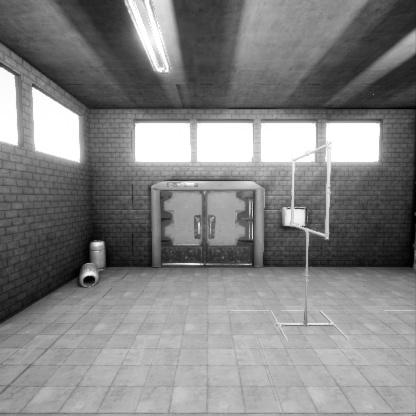gate: (291, 181, 332, 277)
